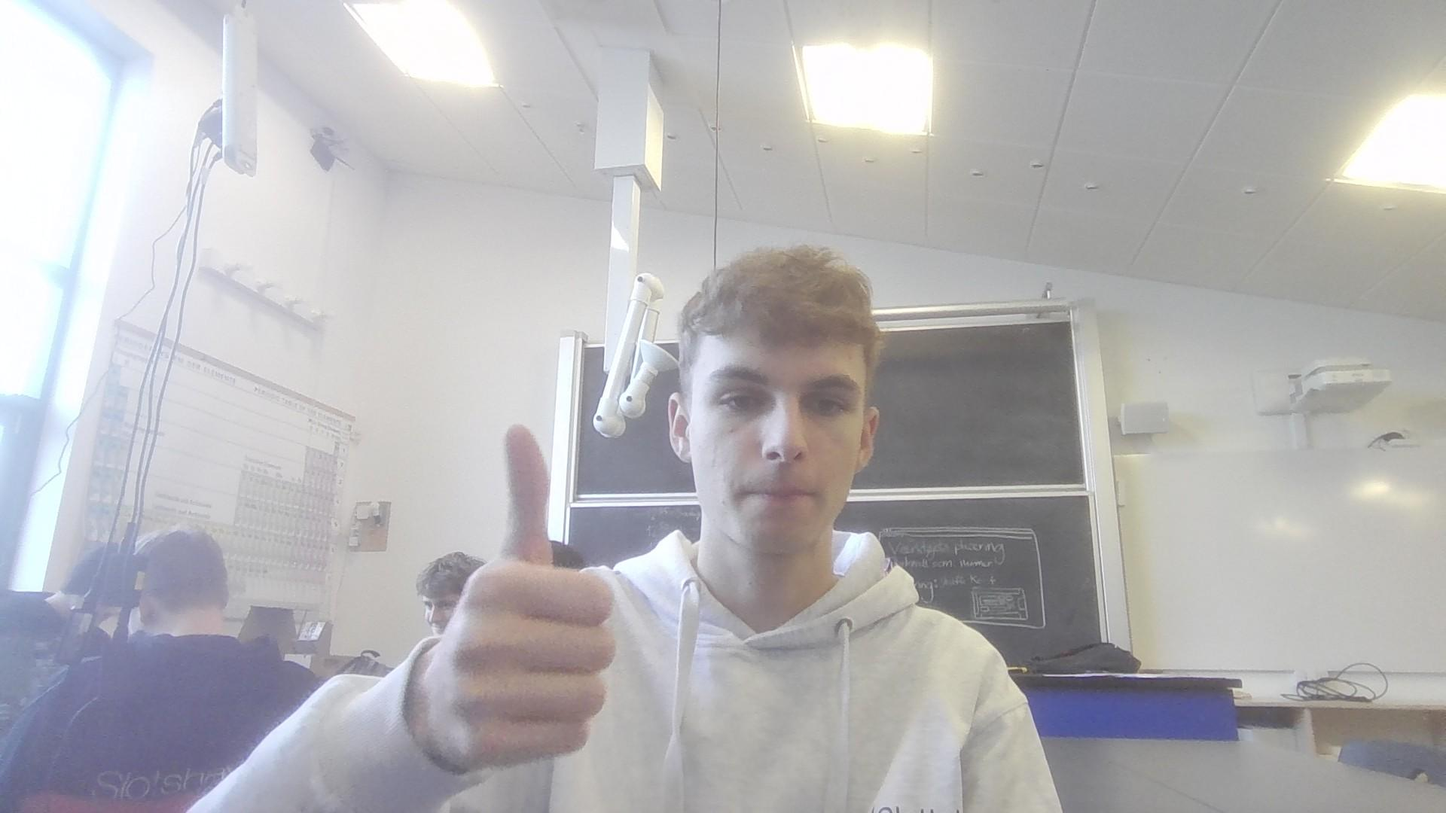thumbs up: (434, 415, 612, 769)
